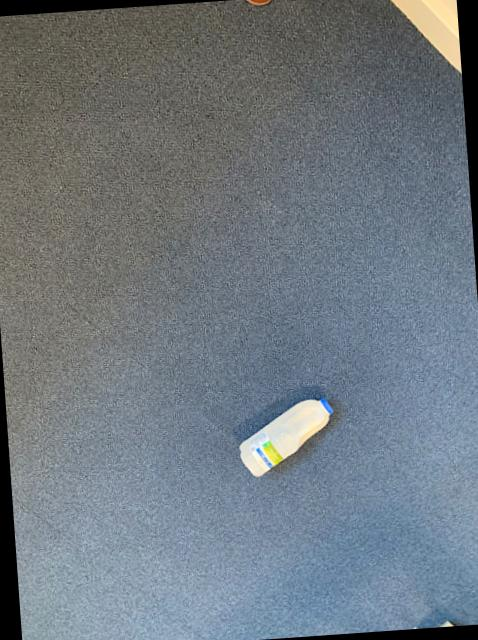plastic: (241, 401, 334, 477)
